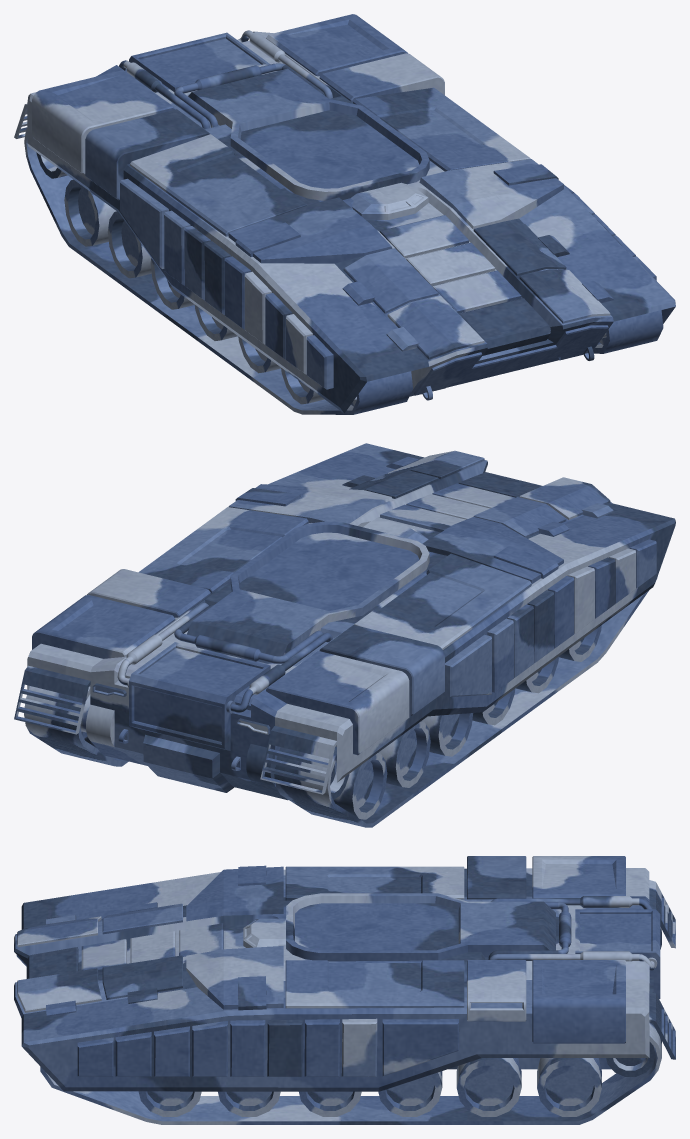
The model's file is EnemyTankBody.fbx.
3 views of the same model, one above another, from view 1: azimuth 30°, elevation 25°; view 2: azimuth 150°, elevation 25°; view 3: azimuth 270°, elevation 25° (orthographic). The views are drawn at different scales.
Visible parts, largest first — view 1: TankBottom; view 2: TankBottom; view 3: TankBottom.
Part boxes in pixels (x1,y1,x2,y2): TankBottom: (14,14,675,414); TankBottom: (14,443,675,827); TankBottom: (14,856,675,1124).
Bounding box in the file's own units: 0.8963 × 0.3697 × 1.67.
1 material, 1 textured.
